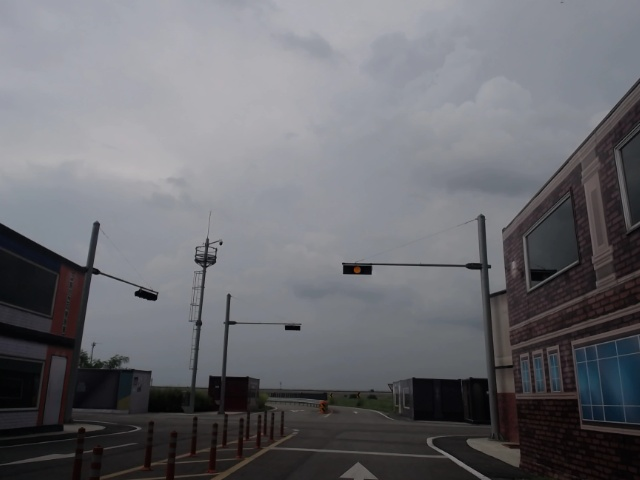orange_3: (342, 263, 373, 275)
